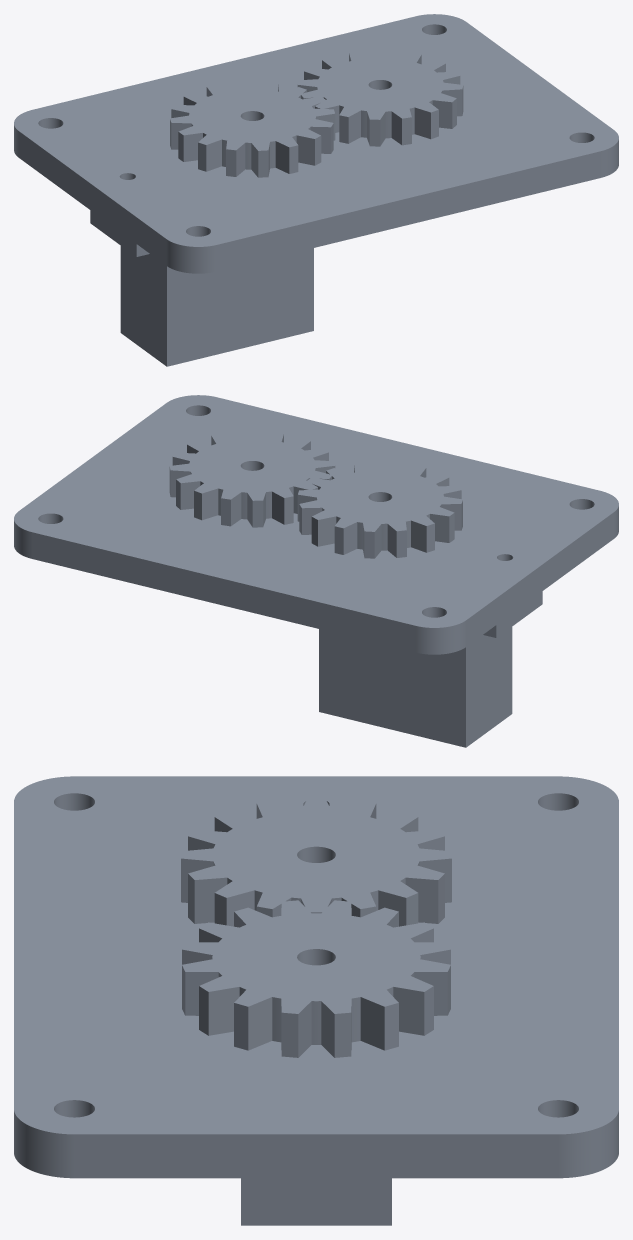
File: step-3.glb
3 views of the same model, one above another, from view 1: azimuth 30°, elevation 25°; view 2: azimuth 150°, elevation 25°; view 3: azimuth 270°, elevation 25° (orthographic). The views are drawn at different scales.
Parts seen in each view (by area): view 1: face_f594c5b01ec607e2c350, face_75d006a8ca76424f0d15, face_587b5f540bef7b1a8fe7, face_90e705d0b79c586715c6, face_a6bdd665ad03e92fe804, face_af3e0bfc63ac36b18648, face_266579ef883e43a1ff22, face_3bb73968065eab68e24a, face_ef8d59ee62935898d1df, face_1928e2e17c4e0e36b6a3; view 2: face_f594c5b01ec607e2c350, face_75d006a8ca76424f0d15, face_fc6b88b5daad128f4f4d, face_1713bfa9cd2cdc202364, face_a6bdd665ad03e92fe804, face_af3e0bfc63ac36b18648, face_5ee39c3ce899d2fd9e17, face_3bb73968065eab68e24a, face_9925c98cc6b5da2f5129, face_ac30e3d84f322566aa84; view 3: face_f594c5b01ec607e2c350, face_75d006a8ca76424f0d15, face_4eaf18a6b39c55dc2bdb, face_031fd7391f5aafb7ffc9, face_ef8d59ee62935898d1df, face_9925c98cc6b5da2f5129, face_b117f4783dff713cfc91, face_e75d62f8fab49bea7492, face_e26c0d1a826cfda76579, face_7ecc2ebceeb83838dc50, face_eba70f94df4658d78b36, face_0034df3c349f521a4846 (+8 smaller).
Part boxes in pixels (bbox=[...]): face_f594c5b01ec607e2c350: bbox=[14, 14, 618, 246]; face_75d006a8ca76424f0d15: bbox=[170, 50, 463, 150]; face_587b5f540bef7b1a8fe7: bbox=[136, 244, 313, 366]; face_90e705d0b79c586715c6: bbox=[217, 151, 600, 271]; face_a6bdd665ad03e92fe804: bbox=[120, 246, 166, 366]; face_af3e0bfc63ac36b18648: bbox=[19, 131, 166, 265]; face_266579ef883e43a1ff22: bbox=[166, 239, 216, 273]; face_3bb73968065eab68e24a: bbox=[90, 210, 136, 256]; face_ef8d59ee62935898d1df: bbox=[600, 139, 618, 177]; face_1928e2e17c4e0e36b6a3: bbox=[296, 135, 314, 165]; face_f594c5b01ec607e2c350: bbox=[14, 395, 618, 627]; face_75d006a8ca76424f0d15: bbox=[169, 431, 462, 531]; face_fc6b88b5daad128f4f4d: bbox=[319, 625, 496, 747]; face_1713bfa9cd2cdc202364: bbox=[32, 532, 415, 652]; face_a6bdd665ad03e92fe804: bbox=[466, 627, 512, 747]; face_af3e0bfc63ac36b18648: bbox=[466, 512, 613, 646]; face_5ee39c3ce899d2fd9e17: bbox=[416, 620, 466, 654]; face_3bb73968065eab68e24a: bbox=[496, 591, 542, 637]; face_9925c98cc6b5da2f5129: bbox=[14, 520, 32, 558]; face_ac30e3d84f322566aa84: bbox=[318, 516, 336, 546]; face_f594c5b01ec607e2c350: bbox=[14, 776, 618, 1134]; face_75d006a8ca76424f0d15: bbox=[181, 797, 451, 1013]; face_4eaf18a6b39c55dc2bdb: bbox=[74, 1134, 558, 1178]; face_031fd7391f5aafb7ffc9: bbox=[241, 1178, 391, 1225]; face_ef8d59ee62935898d1df: bbox=[14, 1111, 74, 1178]; face_9925c98cc6b5da2f5129: bbox=[558, 1111, 618, 1178]; face_b117f4783dff713cfc91: bbox=[208, 987, 239, 1035]; face_e75d62f8fab49bea7492: bbox=[393, 987, 424, 1035]; face_e26c0d1a826cfda76579: bbox=[360, 997, 384, 1050]; face_7ecc2ebceeb83838dc50: bbox=[248, 997, 272, 1050]; face_eba70f94df4658d78b36: bbox=[194, 877, 227, 923]; face_0034df3c349f521a4846: bbox=[405, 877, 438, 923].
Bounding box in the file's own units: 0.07 × 0.031 × 0.05.
